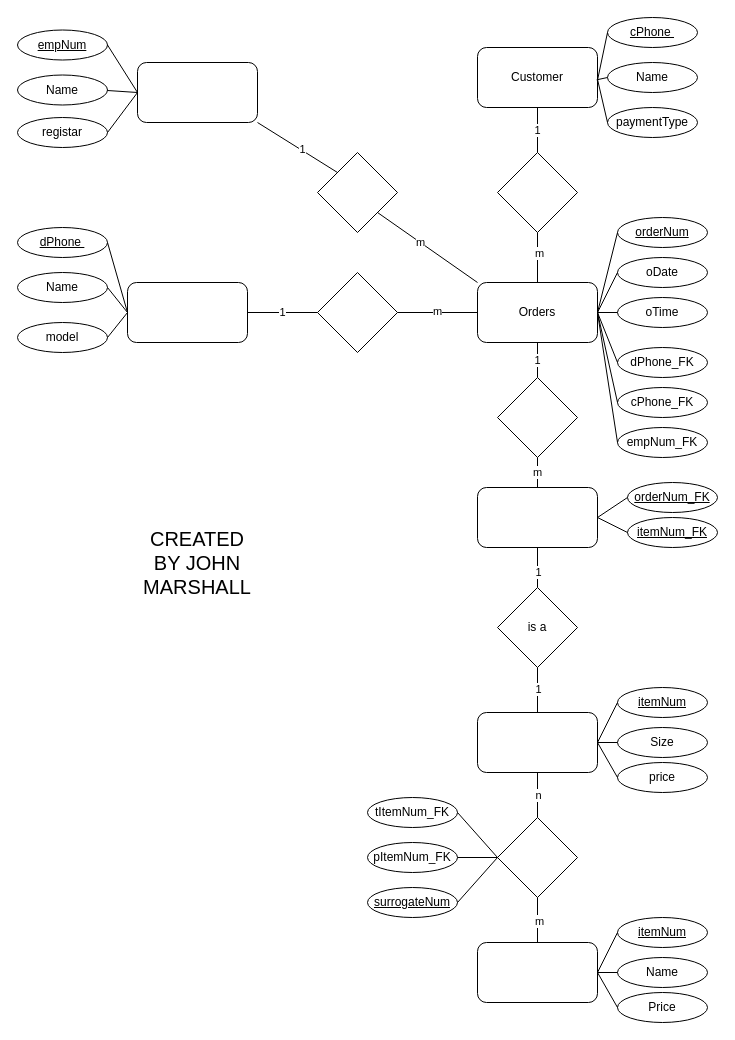
Some shapes in this 735 by 1040 pixel diagram are drawn without their labels. The centre of each missing label's shape, as x and y in pixels:
"Contain" goes at point (537, 417).
"delivers" goes at point (357, 312).
"DeliveryDriver" goes at point (187, 312).
"is On" goes at point (537, 857).
"orderItem" goes at point (537, 517).
"OrderStaff" goes at point (197, 92).
"Pizza" goes at point (537, 742).
"Places" goes at point (537, 192).
"Takes" goes at point (357, 192).
"Toppings" goes at point (537, 972).
